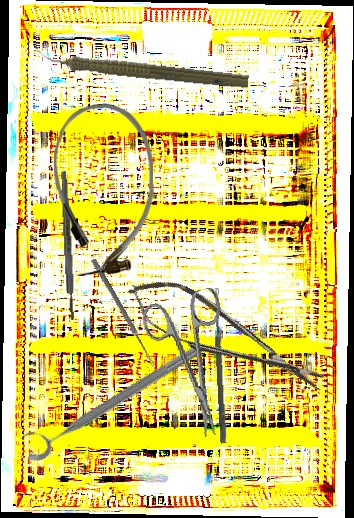Cannula: (53, 102, 155, 277)
Fixation Ring: (14, 328, 209, 467)
Handpiece: (33, 43, 250, 93)
Iris Scissors: (138, 286, 247, 445)
Micro Scissor: (119, 262, 333, 413)
Scalpel Handle: (60, 170, 76, 321)
Surgical Spoon: (90, 258, 157, 368), (212, 287, 228, 444)
